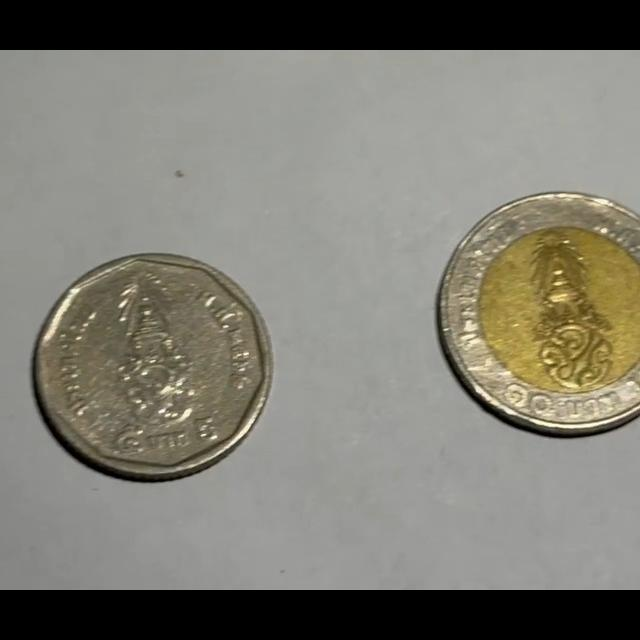10-baht: (436, 192, 640, 434)
5-baht: (34, 254, 272, 481)
